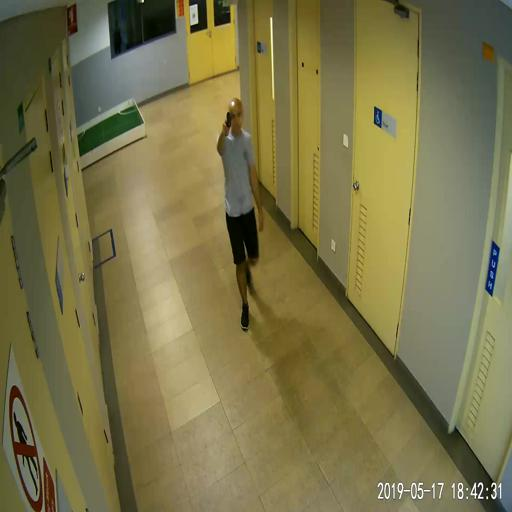pistol: (222, 108, 236, 136)
